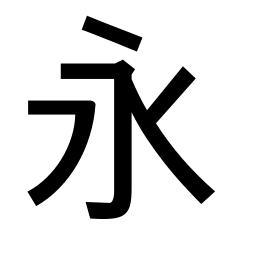D: (80, 13, 144, 52)
HSZ: (102, 57, 135, 93)
Hs: (58, 60, 96, 82)
Ne: (186, 176, 217, 205)
PNc: (136, 101, 163, 137)
PZe: (26, 182, 53, 209)
Ps: (170, 63, 200, 92)
SG: (83, 189, 136, 223)
Sm: (110, 138, 134, 176)
TPZ: (65, 97, 98, 142)
Ts: (25, 97, 52, 118)
